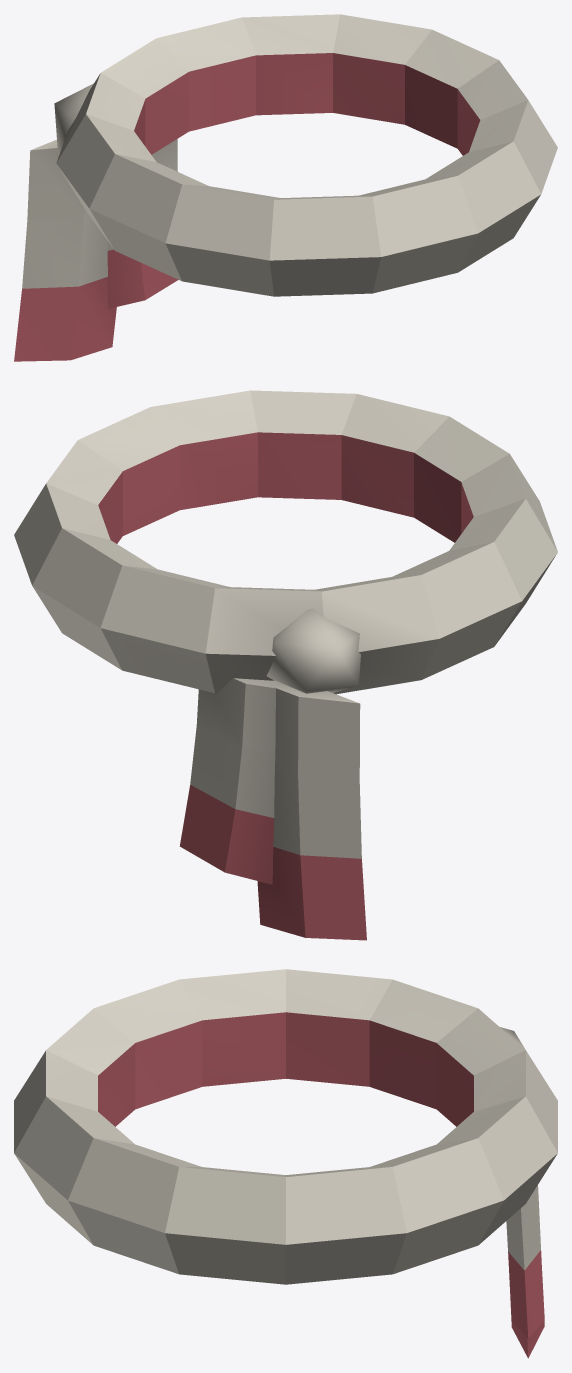
Rendered from resident_scarf_cream_low.glb.
3 views of the same model, one above another, from view 1: azimuth 30°, elevation 25°; view 2: azimuth 150°, elevation 25°; view 3: azimuth 270°, elevation 25° (orthographic). The views are drawn at different scales.
Size of the model in its own units: 1.52 by 0.9975 by 1.48.
